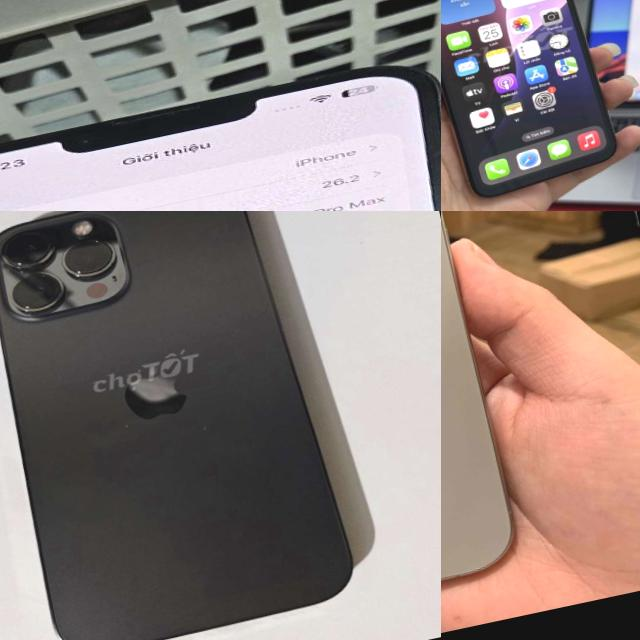gen_12_13: (0, 211, 368, 640), (0, 44, 441, 211)
gen_x_xs: (441, 0, 623, 200)
